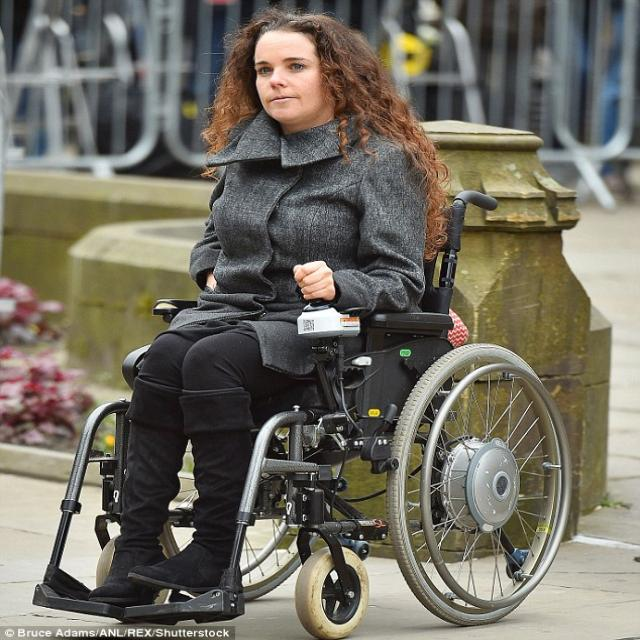wheelchairs: (28, 186, 574, 639)
